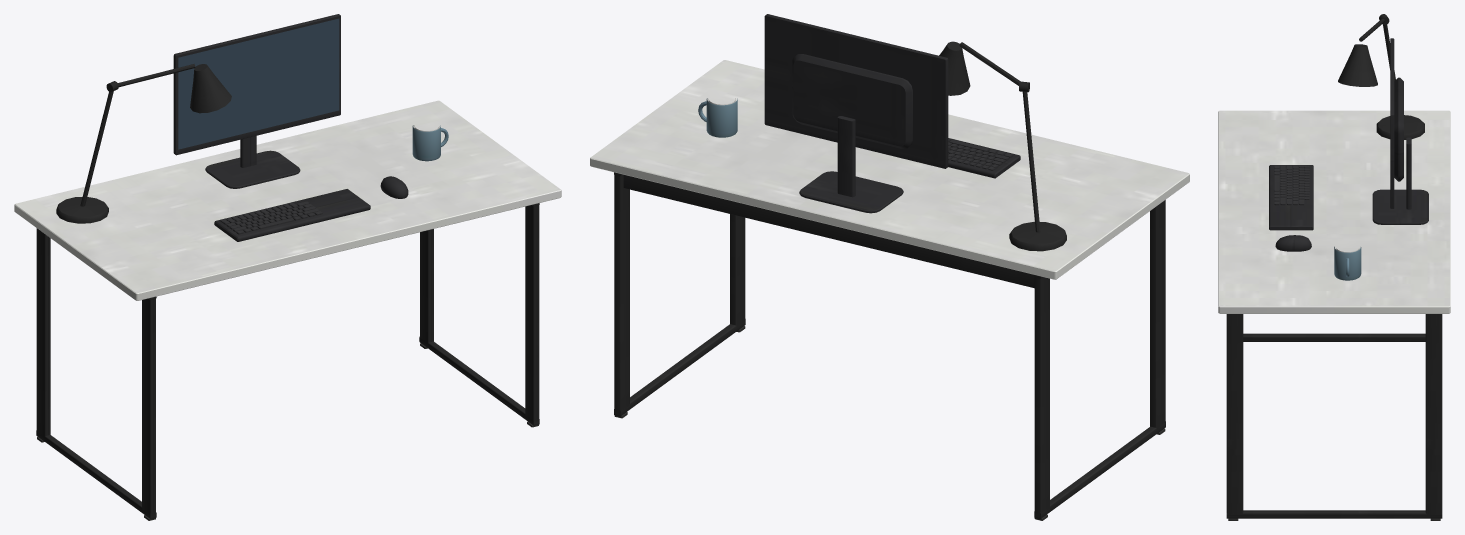
File: office-desk.glb
The picture shows the model from 3 angles, left to right: view 1: azimuth 30°, elevation 25°; view 2: azimuth 150°, elevation 25°; view 3: azimuth 270°, elevation 25°; orthographic projection. The views are drawn at different scales.
Visible parts, largest first — view 1: office-desk_mesh_lod1, screen_lod1; view 2: office-desk_mesh_lod1; view 3: office-desk_mesh_lod1.
Boxes of the visible parts, x1,y1,x2,y2 form: office-desk_mesh_lod1: (14,14,561,520); screen_lod1: (178,18,339,149); office-desk_mesh_lod1: (590,14,1189,520); office-desk_mesh_lod1: (1218,14,1450,520).
Size of the model in its own units: 1.4 by 1.19 by 0.7001.
2 materials, 1 textured.
